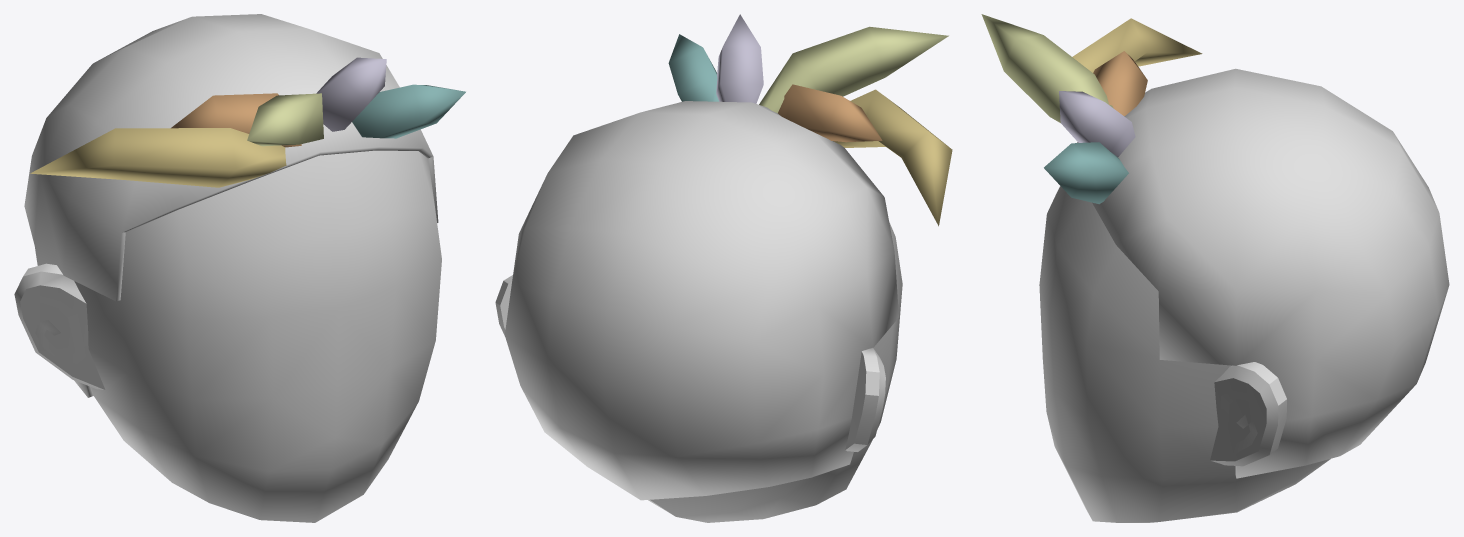
Rendered from Hair1.glb.
The picture shows the model from 3 angles, left to right: view 1: azimuth 30°, elevation 25°; view 2: azimuth 150°, elevation 25°; view 3: azimuth 270°, elevation 25°; orthographic projection. The views are drawn at different scales.
Visible parts, largest first — view 1: Head; view 2: Head; view 3: Head.
Part boxes in pixels (<box>): Head: <box>14,14,465,522</box>; Head: <box>495,14,952,522</box>; Head: <box>981,14,1449,522</box>.
Size of the model in its own units: 0.6364 by 0.6556 by 0.6233.
